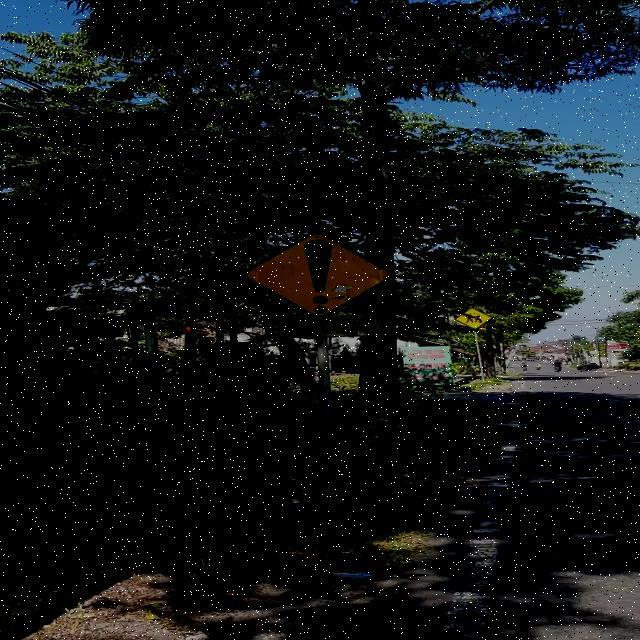Hati-Hati: (242, 232, 392, 316)
